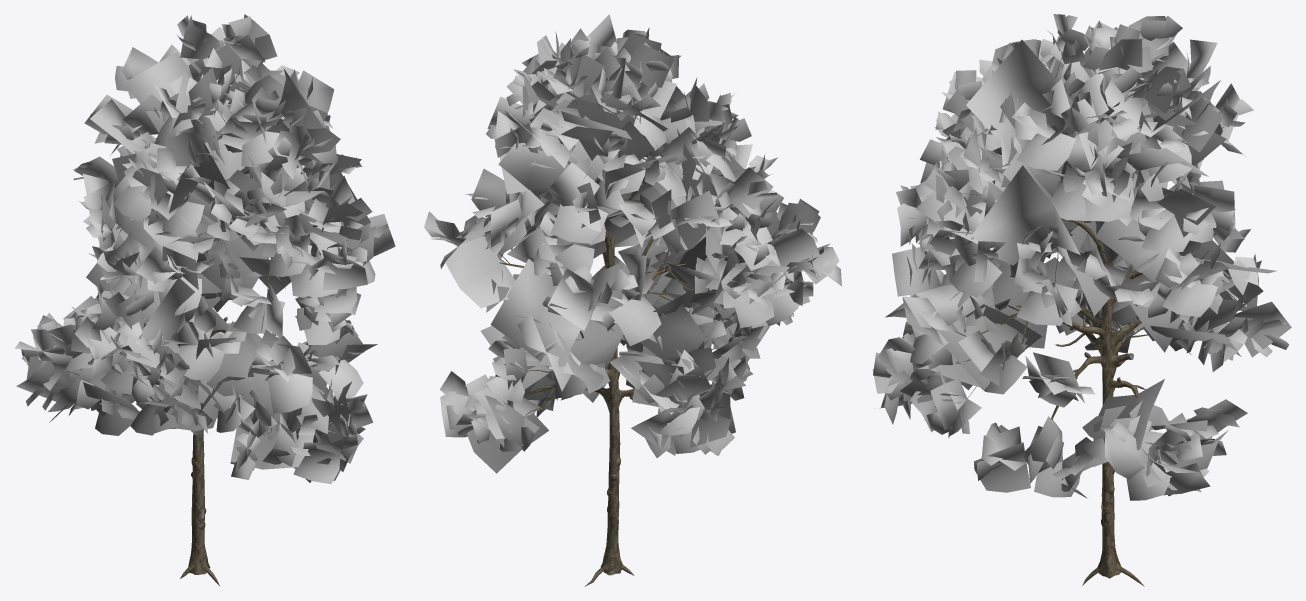
File: Broadleaf_Desktop_Field.FBX
3 views of the same model, side by side, from view 1: azimuth 30°, elevation 25°; view 2: azimuth 150°, elevation 25°; view 3: azimuth 270°, elevation 25° (orthographic). The views are drawn at different scales.
Visible parts, largest first — view 1: Broadleaf_Desktop_Field; view 2: Broadleaf_Desktop_Field; view 3: Broadleaf_Desktop_Field.
Boxes of the visible parts, left/top/right/bottom form: Broadleaf_Desktop_Field: left=14, top=14, right=395, bottom=585; Broadleaf_Desktop_Field: left=424, top=14, right=841, bottom=586; Broadleaf_Desktop_Field: left=872, top=14, right=1291, bottom=586.
Size of the model in its own units: 1240 by 1148 by 1872.
